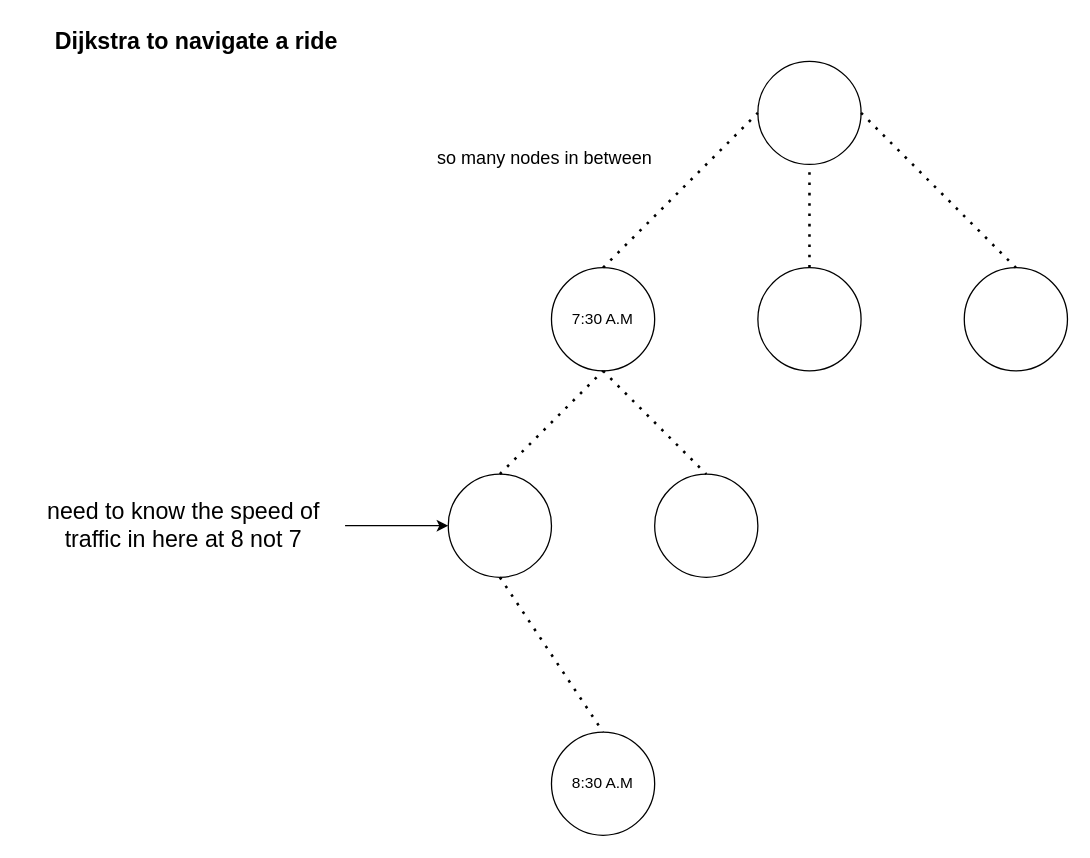
Image size: 1090x858. Some labels were removed from this diagram. The centre of each missing label's shape, as x and y in pixels:
7 A.M.: the point at 809,112
8 A.M: the point at 499,525
